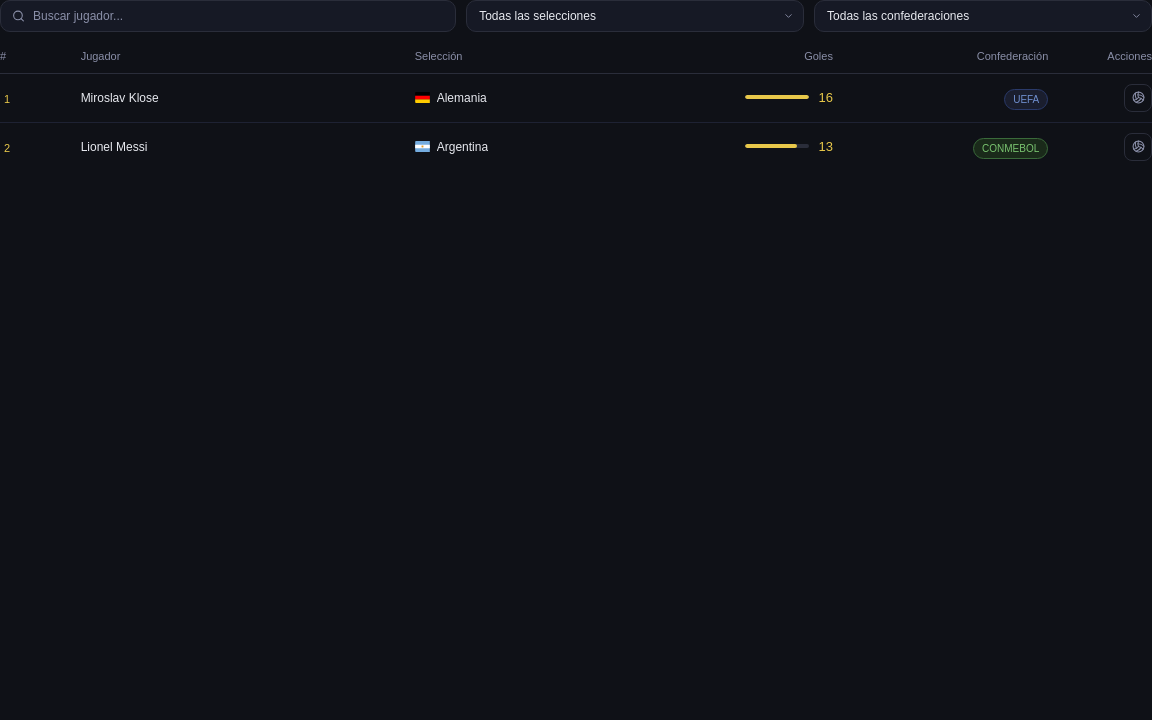
HistoricalScorersTable › opens the selected scorer modal using the actions button player ID
The image size is (1152, 720).
Click the button named "Detalle de goles de Miroslav Klose" at (1138, 98), box [1124, 84, 1151, 112]
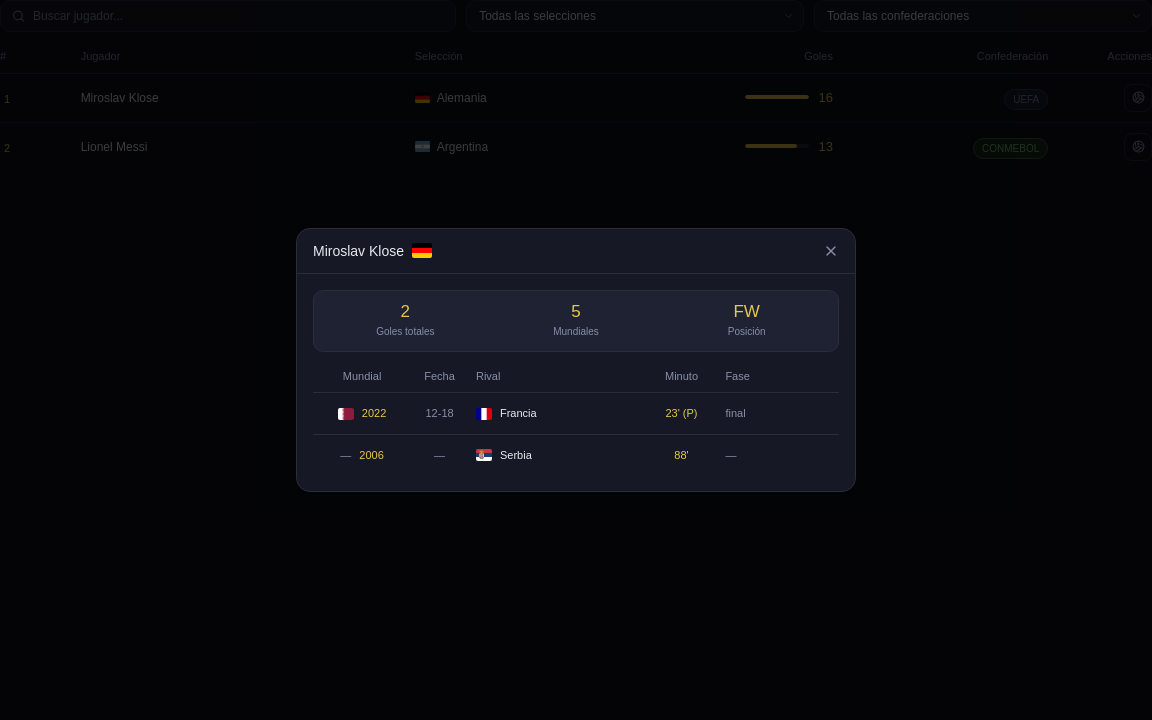
Expected: the dialog "Miroslav Klose" is shown
Expected: the text "Miroslav Klose" is shown, [313, 241, 404, 261]
